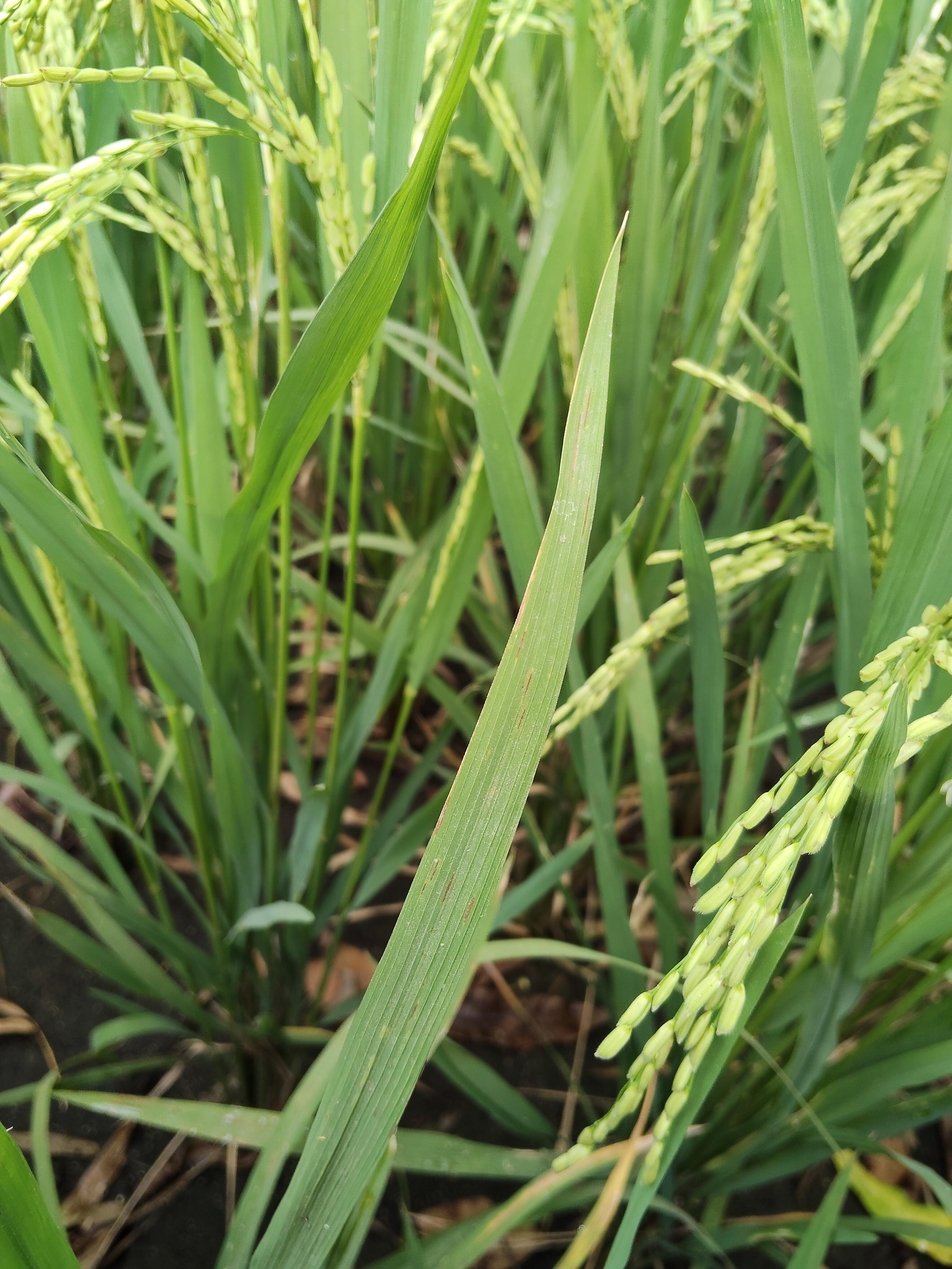NBS: (432, 796, 451, 837), (571, 415, 582, 483), (520, 668, 534, 704), (515, 628, 528, 663), (441, 875, 454, 905), (582, 495, 591, 537), (584, 388, 592, 431), (463, 899, 475, 925), (409, 1000, 419, 1021), (517, 709, 526, 729), (430, 861, 439, 881), (421, 883, 426, 894)
